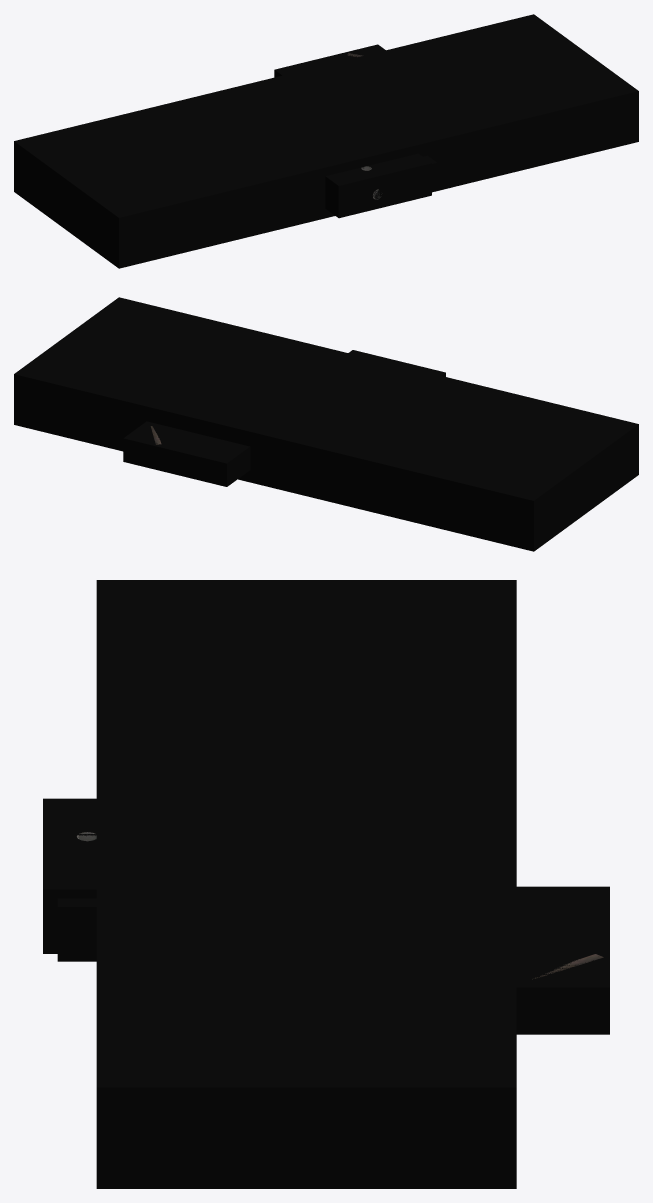
Rendered from viewmodel_ak74u_MP1.obj.
The picture shows the model from 3 angles, top to bottom: view 1: azimuth 30°, elevation 25°; view 2: azimuth 150°, elevation 25°; view 3: azimuth 270°, elevation 25°; orthographic projection. The views are drawn at different scales.
Visible parts, largest first — view 1: j_gun, tag_acog, tag_clip; view 2: j_gun, tag_clip, tag_acog; view 3: j_gun, tag_clip, tag_acog, tag_reflex_sight.
Boxes of the visible parts, x1=… form: j_gun: x1=14, y1=14, x2=638, y2=268; tag_acog: x1=325, y1=153, x2=431, y2=218; tag_clip: x1=274, y1=44, x2=385, y2=77; j_gun: x1=14, y1=297, x2=638, y2=551; tag_clip: x1=123, y1=421, x2=250, y2=486; tag_acog: x1=348, y1=350, x2=445, y2=376; j_gun: x1=96, y1=580, x2=516, y2=1188; tag_clip: x1=516, y1=886, x2=609, y2=1034; tag_acog: x1=43, y1=798, x2=96, y2=953; tag_reflex_sight: x1=57, y1=898, x2=96, y2=961.
Size of what is drawn, in the model's own units: 30.62 by 3.71 by 14.45.
